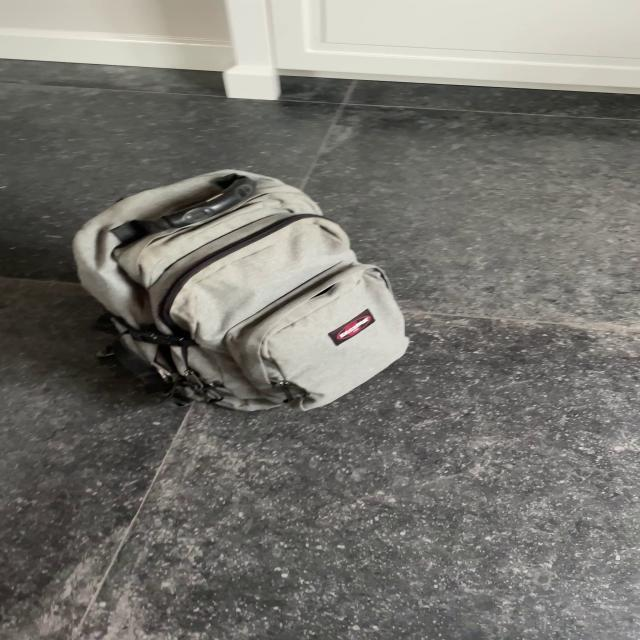backpack: (59, 163, 414, 415)
